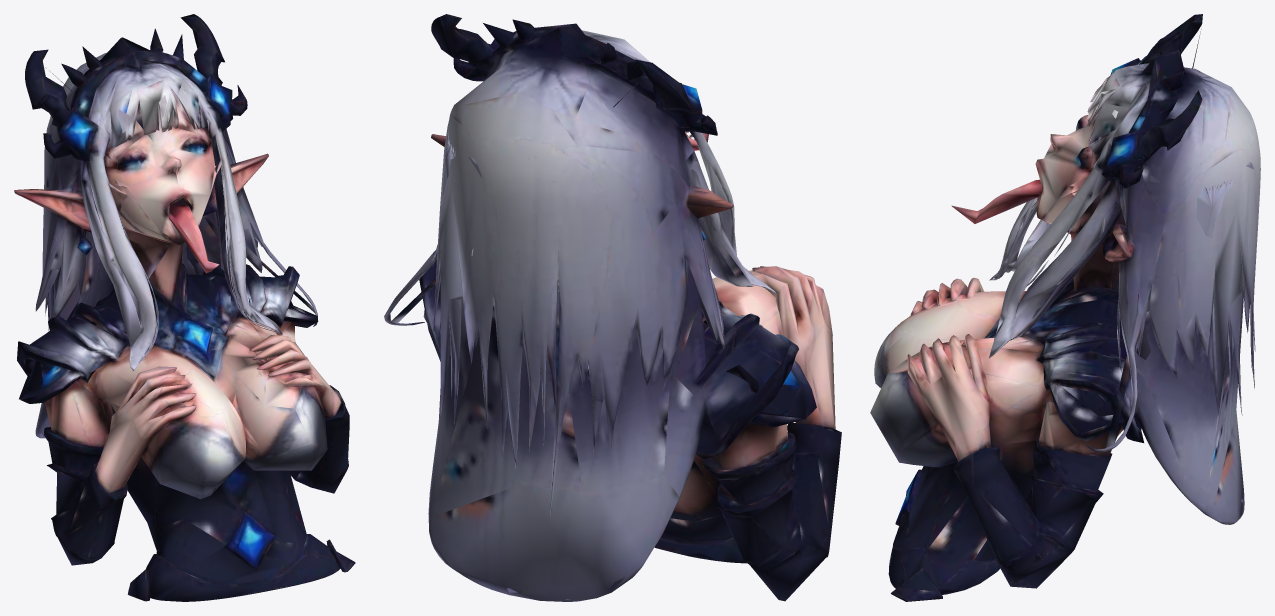
The model's file is 01a1a2e2-fbbb-7376-867a-614555fa77f7.glb.
The picture shows the model from 3 angles, left to right: view 1: azimuth 30°, elevation 25°; view 2: azimuth 150°, elevation 25°; view 3: azimuth 270°, elevation 25°; orthographic projection. The views are drawn at different scales.
Visible parts, largest first — view 1: node_0; view 2: node_0; view 3: node_0.
Boxes of the visible parts, x1=… form: node_0: x1=14, y1=14, x2=355, y2=601; node_0: x1=384, y1=14, x2=841, y2=601; node_0: x1=870, y1=14, x2=1260, y2=601.
Bounding box in the file's own units: 0.68 × 0.9656 × 0.6906.
1 material, 1 textured.
